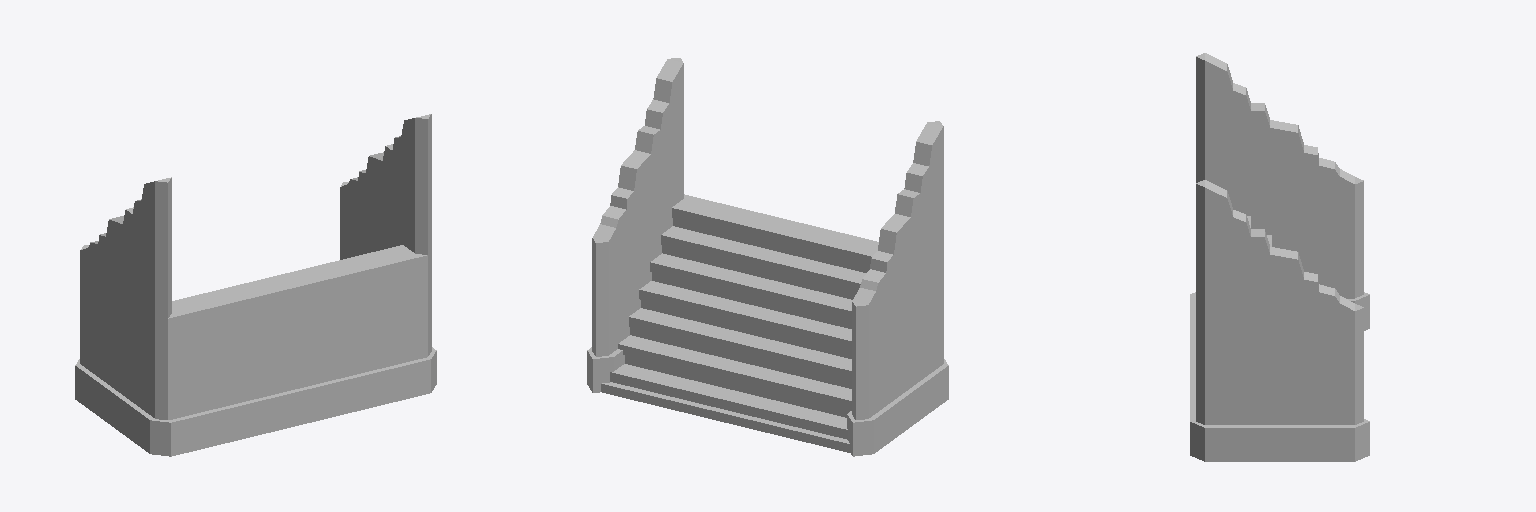
The model's file is hallway_stair_01.obj.
3 renders of one model, left to right at view 1: azimuth 30°, elevation 25°; view 2: azimuth 150°, elevation 25°; view 3: azimuth 270°, elevation 25°, orthographic.
Parts seen in each view (by area): view 1: stairs_01_112; view 2: stairs_01_112; view 3: stairs_01_112.
Boxes of the visible parts, x1=… form: stairs_01_112: x1=75, y1=114, x2=436, y2=456; stairs_01_112: x1=587, y1=58, x2=948, y2=456; stairs_01_112: x1=1190, y1=53, x2=1369, y2=461.
Size of the model in its own units: 2.21 by 2 by 1.21.